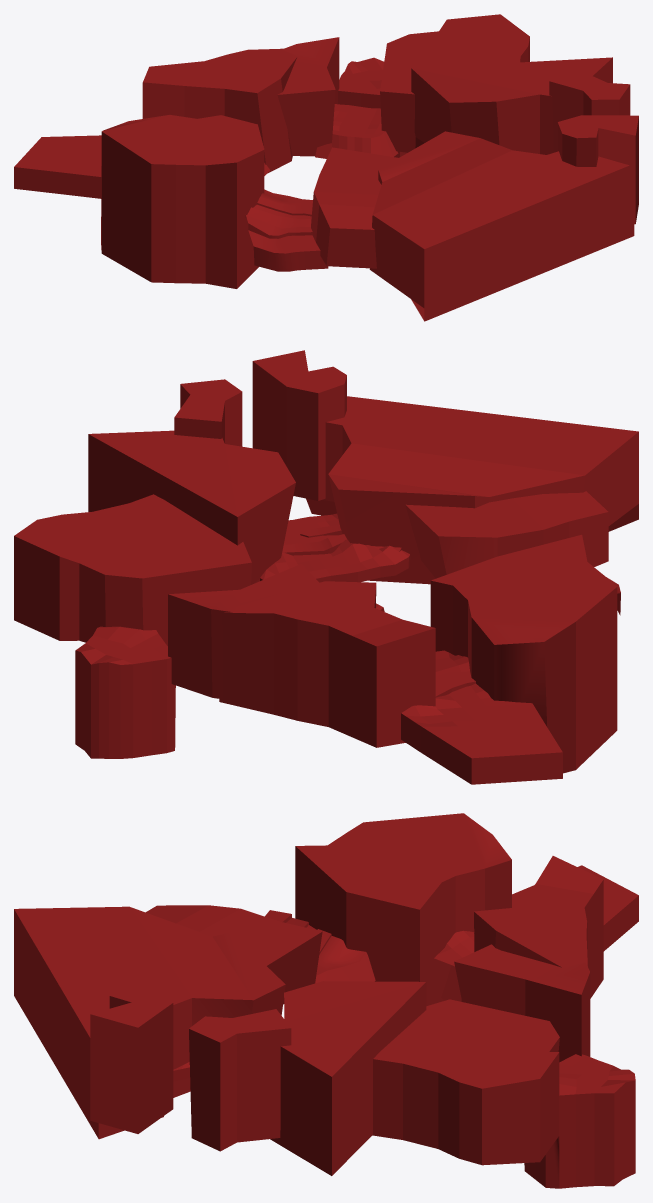
The model's file is Zone4Final 3.FBX.
3 renders of one model, top to bottom at view 1: azimuth 30°, elevation 25°; view 2: azimuth 150°, elevation 25°; view 3: azimuth 270°, elevation 25°, orthographic. The views are drawn at different scales.
Parts seen in each view (by area): view 1: New_Game_Object__1__1, New_Game_Object__2_, New_Game_Object_5, New_Game_Object_3, New_Game_Object_2, New_Game_Object_16, New_Game_Object_14, New_Game_Object_1, New_Game_Object_15, New_Game_Object__4__1, New_Game_Object_13, New_Game_Object (+1 smaller); view 2: New_Game_Object__1__1, New_Game_Object__2_, New_Game_Object_3, New_Game_Object_2, New_Game_Object_5, New_Game_Object__1_, New_Game_Object_15, New_Game_Object_16, New_Game_Object__4__1, New_Game_Object_14, New_Game_Object_4, New_Game_Object_13 (+2 smaller); view 3: New_Game_Object__1__1, New_Game_Object__2_, New_Game_Object_2, New_Game_Object_5, New_Game_Object_13, New_Game_Object__4__1, New_Game_Object__1_, New_Game_Object_3, New_Game_Object_14, New_Game_Object_16, New_Game_Object_15, New_Game_Object_1.
Part boxes in pixels (x1,y1,x2,y2): New_Game_Object__1__1: (369,131,634,321); New_Game_Object__2_: (101,115,264,288); New_Game_Object_5: (411,57,612,154); New_Game_Object_3: (142,48,297,173); New_Game_Object_2: (380,14,529,152); New_Game_Object_16: (311,147,398,268); New_Game_Object_14: (277,37,339,156); New_Game_Object_1: (245,189,328,271); New_Game_Object_15: (14,135,270,198); New_Game_Object__4__1: (557,115,638,224); New_Game_Object_13: (549,69,630,152); New_Game_Object: (315,104,398,158); New_Game_Object__1__1: (306,396,638,584); New_Game_Object__2_: (430,534,617,773); New_Game_Object_3: (219,581,435,747); New_Game_Object_2: (14,494,251,645); New_Game_Object_5: (88,430,295,584); New_Game_Object__1_: (75,626,175,758); New_Game_Object_15: (401,650,562,784); New_Game_Object_16: (405,491,608,578); New_Game_Object__4__1: (252,350,346,500); New_Game_Object_14: (168,564,318,699); New_Game_Object_4: (260,513,410,582); New_Game_Object_13: (174,379,242,446); New_Game_Object__1__1: (14,906,285,1139); New_Game_Object__2_: (295,813,511,1006); New_Game_Object_2: (372,999,559,1165); New_Game_Object_5: (270,981,426,1175); New_Game_Object_13: (189,1009,291,1151); New_Game_Object__4__1: (90,983,173,1133); New_Game_Object__1_: (524,1054,635,1188); New_Game_Object_3: (474,856,603,998); New_Game_Object_14: (454,944,590,1062); New_Game_Object_16: (146,905,322,1004); New_Game_Object_15: (426,865,638,1001); New_Game_Object_1: (265,910,375,983).
Size of the model in its own units: 52514 by 15981 by 47858.
